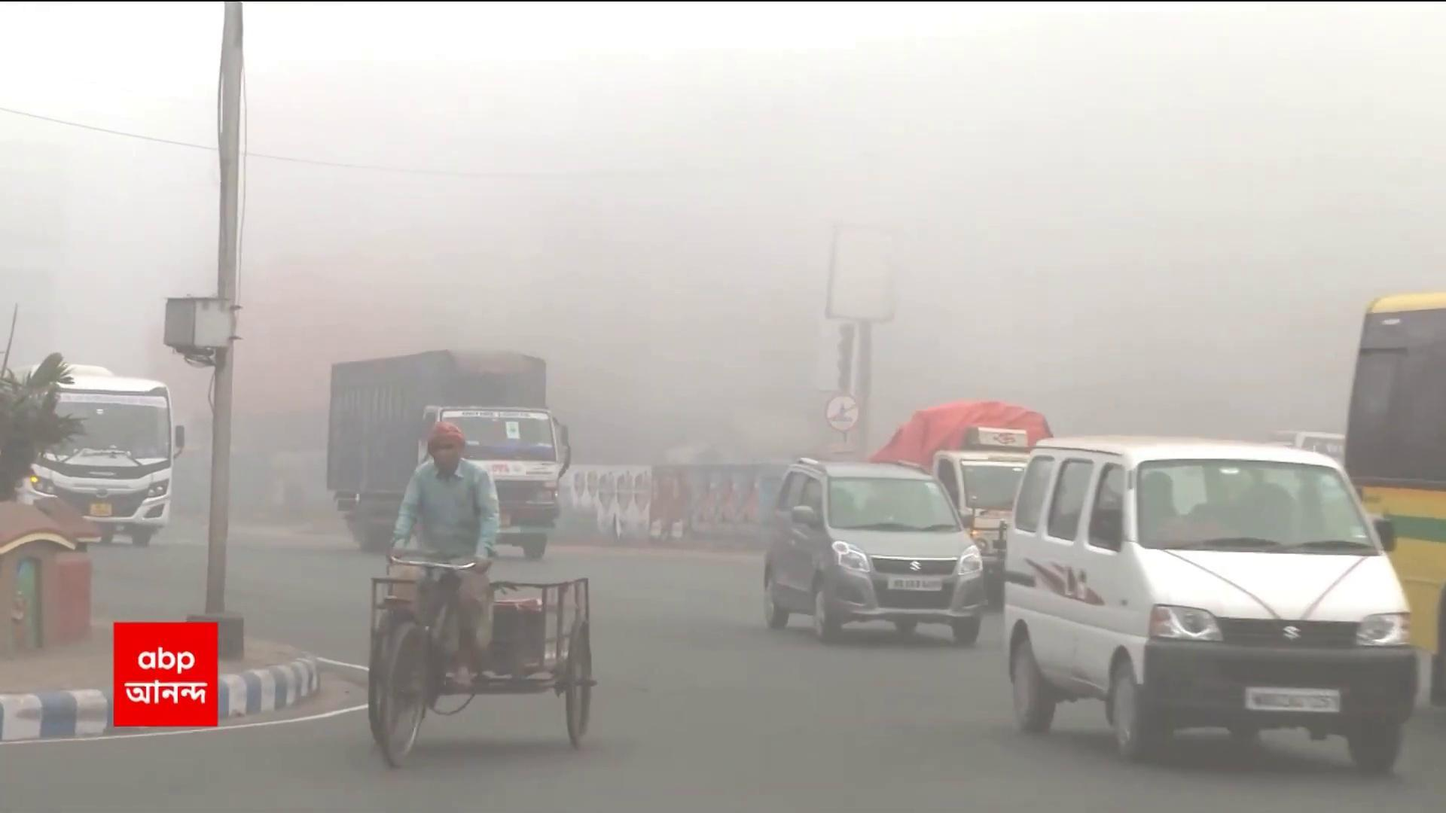Bus: (19, 358, 181, 546)
Car: (1001, 435, 1420, 780), (363, 422, 603, 769), (761, 455, 986, 647)
Truck: (329, 347, 558, 559)
